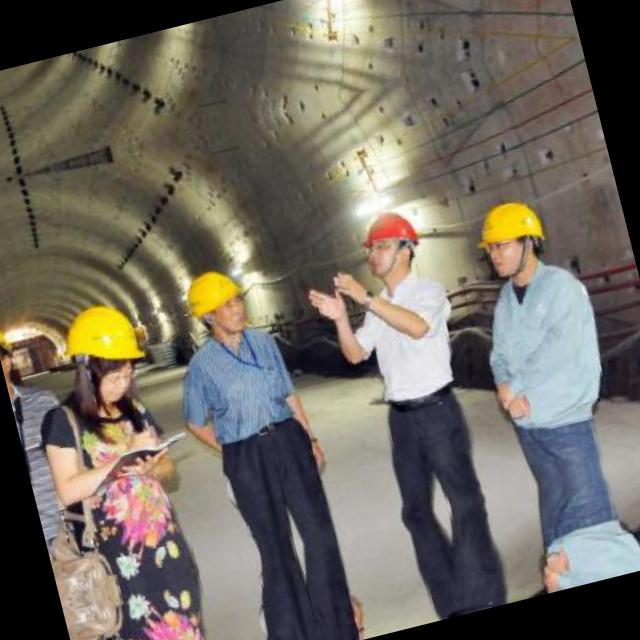helmet: (52, 296, 154, 408), (462, 190, 554, 283), (348, 198, 432, 288), (176, 260, 251, 340)
